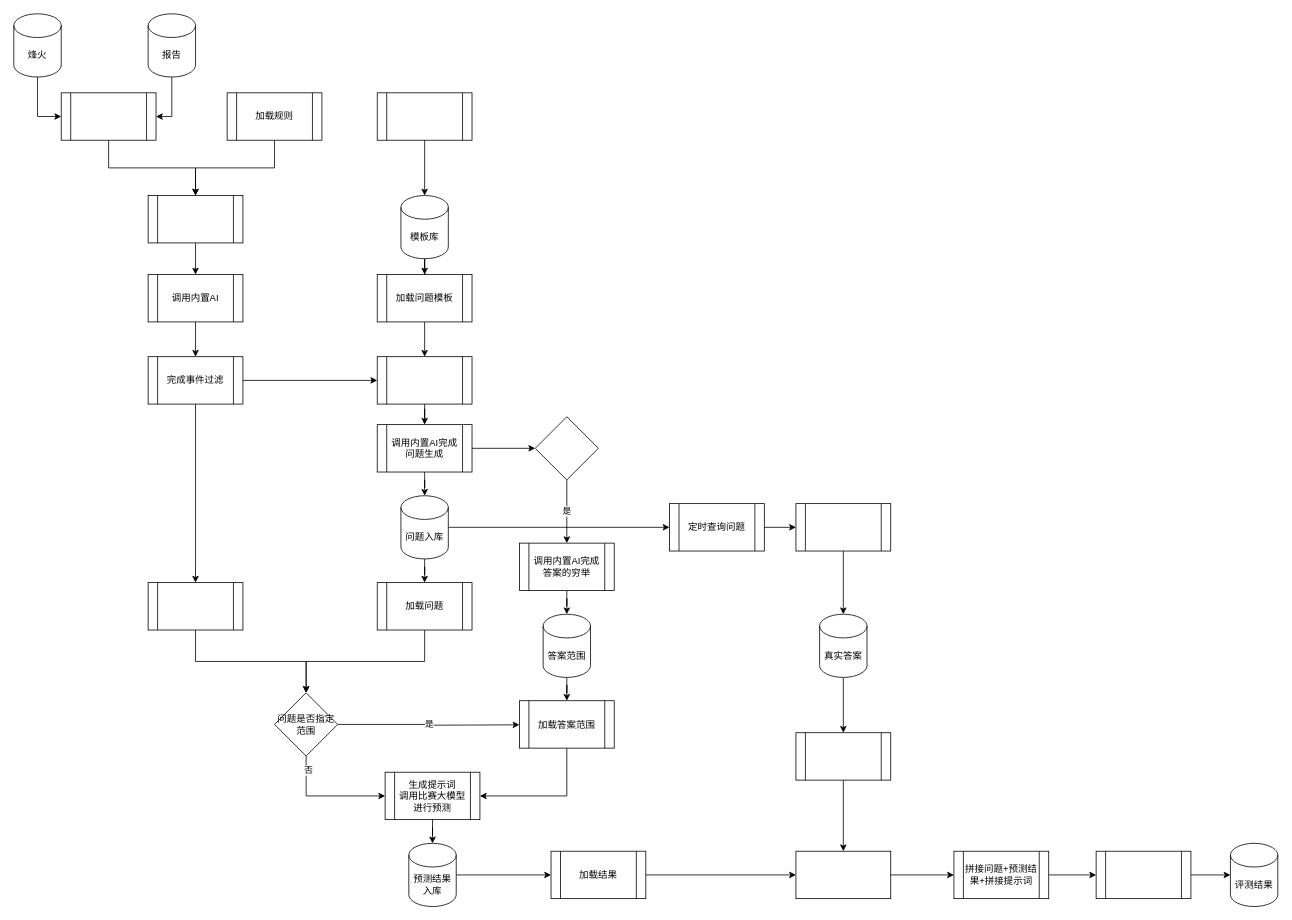
Image size: 1292x920. Some labels were removed from this diagram. The box of each missing label's shape, as (x1, y1, x2, y2) in pixels:
人工配置问题模板: (376, 92, 472, 140)
加载答案+问题: (795, 732, 891, 780)
加载过滤事件: (147, 582, 243, 630)
是否需要有答案范围: (534, 416, 598, 480)
生成提示词: (147, 195, 243, 243)
读取事件: (60, 92, 156, 140)
调用答案提取Agent: (795, 503, 891, 551)
调用评分策略: (1095, 850, 1191, 899)
问题+事件生成提示词: (376, 356, 472, 404)
问题分类: (795, 850, 891, 899)
